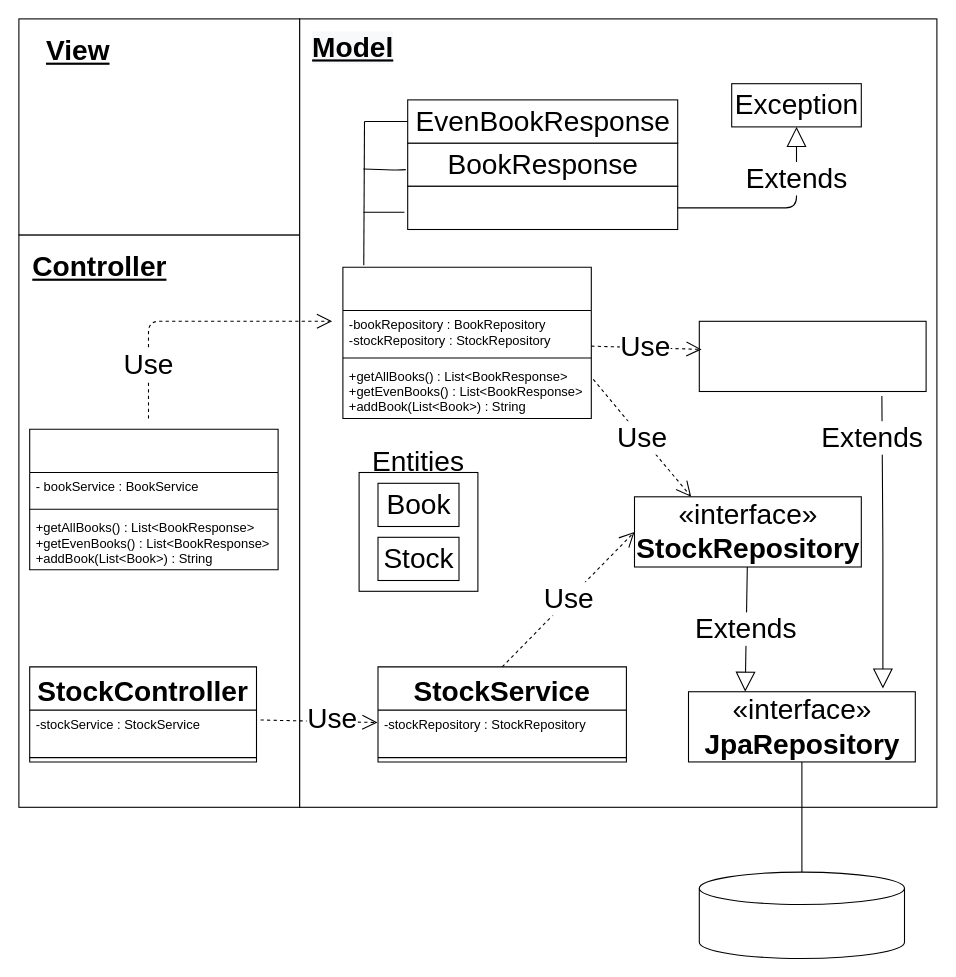
The diagram is 956 pixels wide and 977 high, and some of its shapes have lost their labels. Here are the shapes that lost their labels. From the top down, the box of each, then its label:
(407, 185, 678, 230): BookException
(342, 266, 591, 418): BookService
(698, 320, 926, 392): «interface» BookRepository
(29, 428, 278, 570): BookController
(698, 871, 905, 959): DB
